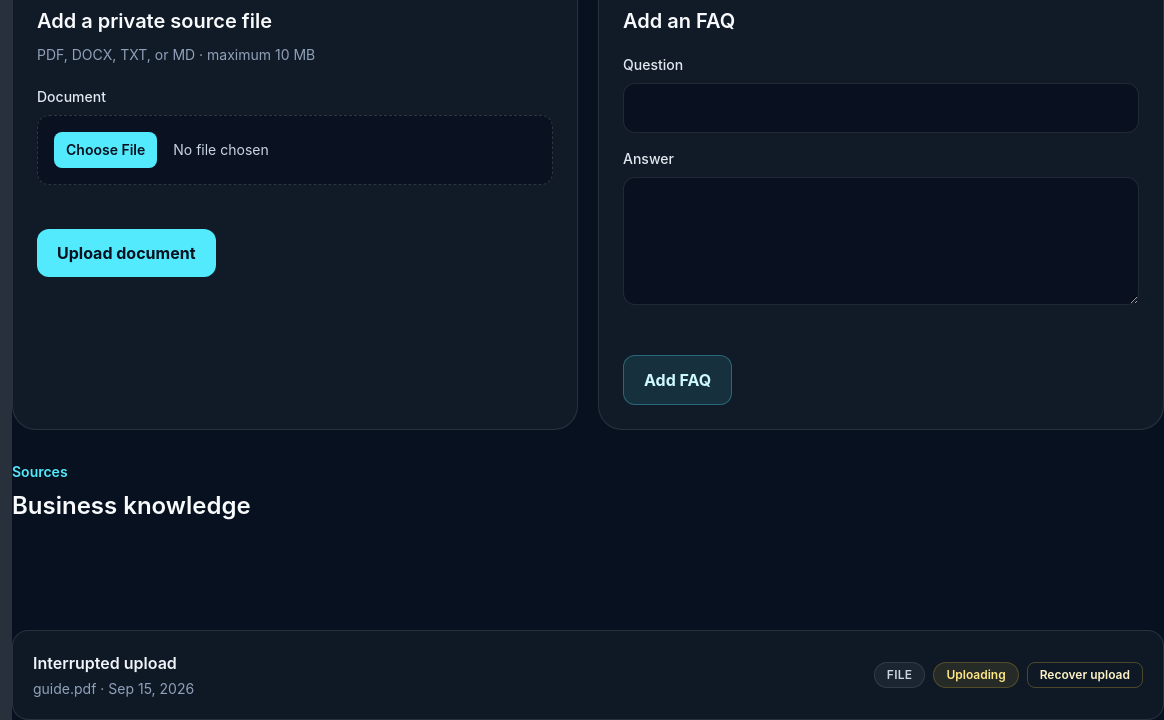
Test: KnowledgePage › lets a manager recover an incomplete upload
The width and height of the screenshot is (1164, 720).
(page scrolled)
What coordinates should you click on to do the following:
click the button "Recover upload"
I would click on:
 (1085, 675)
Its box is x1=1027 y1=662 x2=1143 y2=688.
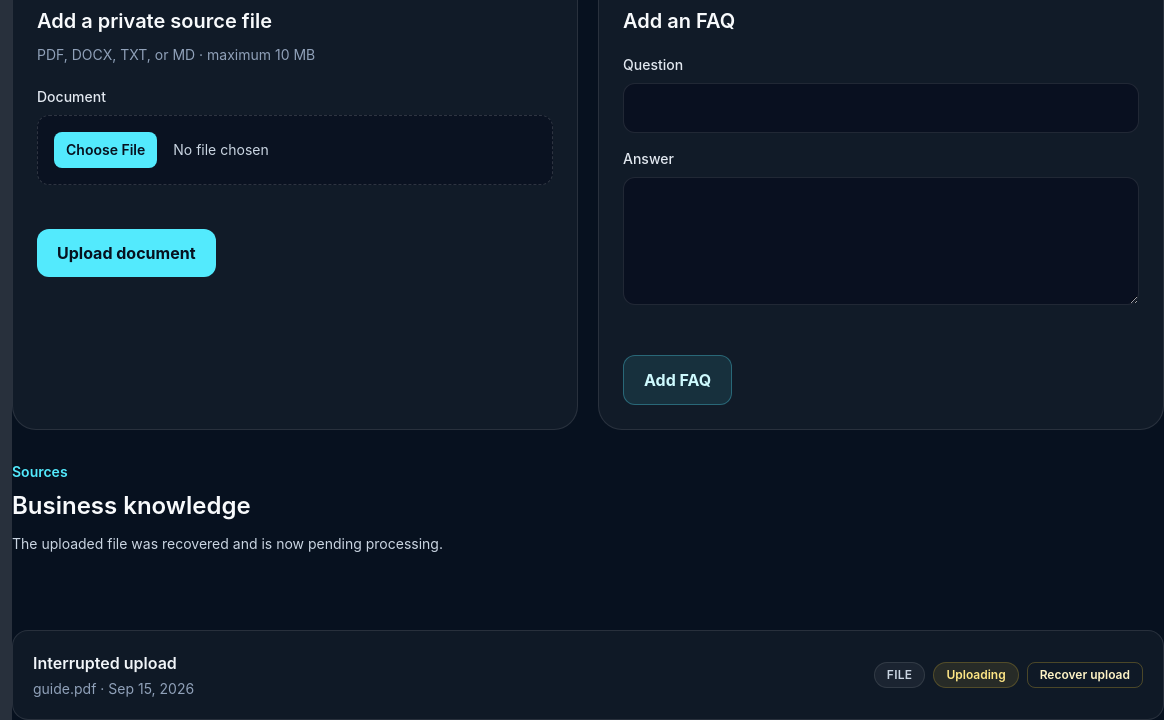
Expected: the text "recovered and is now pending processing" is shown, x1=12 y1=535 x2=443 y2=552
